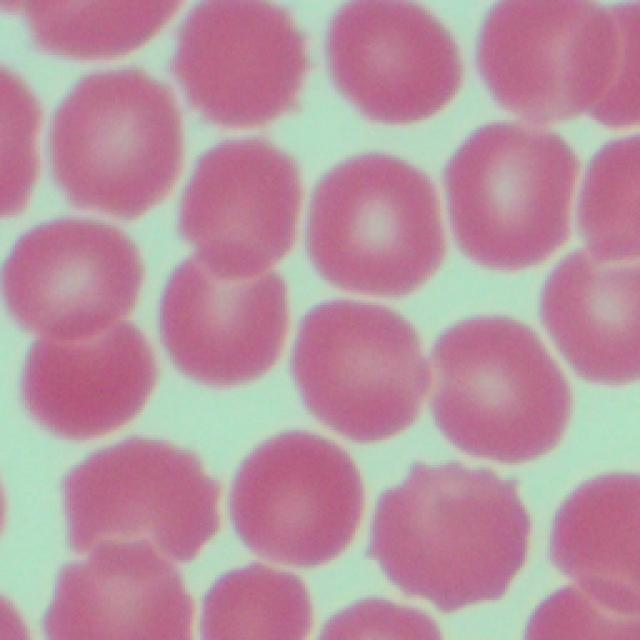RBC: (49, 428, 201, 640), (414, 297, 563, 467), (371, 454, 525, 617), (303, 131, 440, 301), (435, 120, 575, 283), (49, 65, 183, 234), (470, 0, 640, 130), (294, 293, 435, 449), (224, 426, 360, 577), (153, 243, 285, 398), (315, 2, 459, 133), (174, 131, 300, 279), (12, 311, 149, 443), (168, 2, 304, 134), (1, 217, 138, 345), (544, 466, 636, 638), (538, 248, 638, 383), (197, 562, 310, 640), (573, 134, 640, 265), (0, 54, 43, 222), (310, 602, 450, 640)
